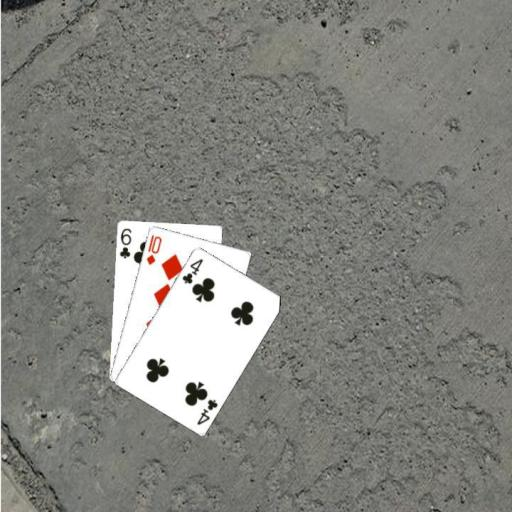10D: (143, 232, 163, 266)
4C: (193, 396, 219, 426), (179, 255, 204, 285)
6C: (116, 225, 133, 260)
